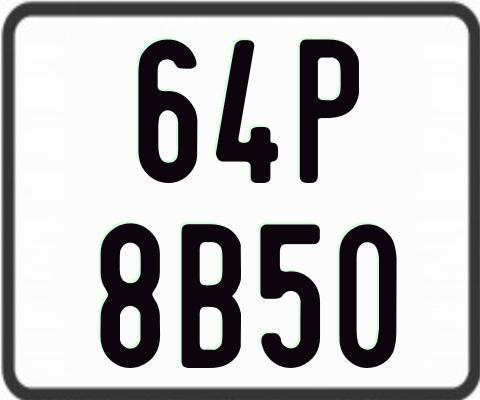0: (339, 222, 401, 367)
4: (216, 37, 279, 181)
5: (259, 223, 319, 369)
6: (136, 39, 200, 189)
8: (100, 220, 165, 367)
B: (181, 223, 240, 368)
P: (298, 38, 361, 186)
